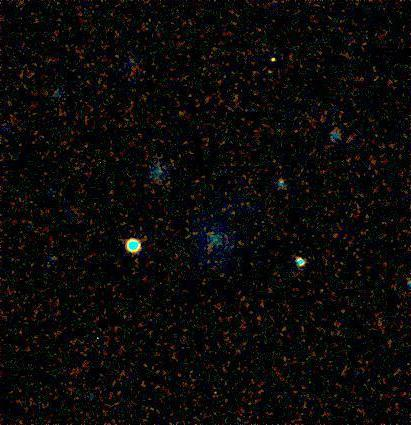star: (255, 44, 285, 74)
